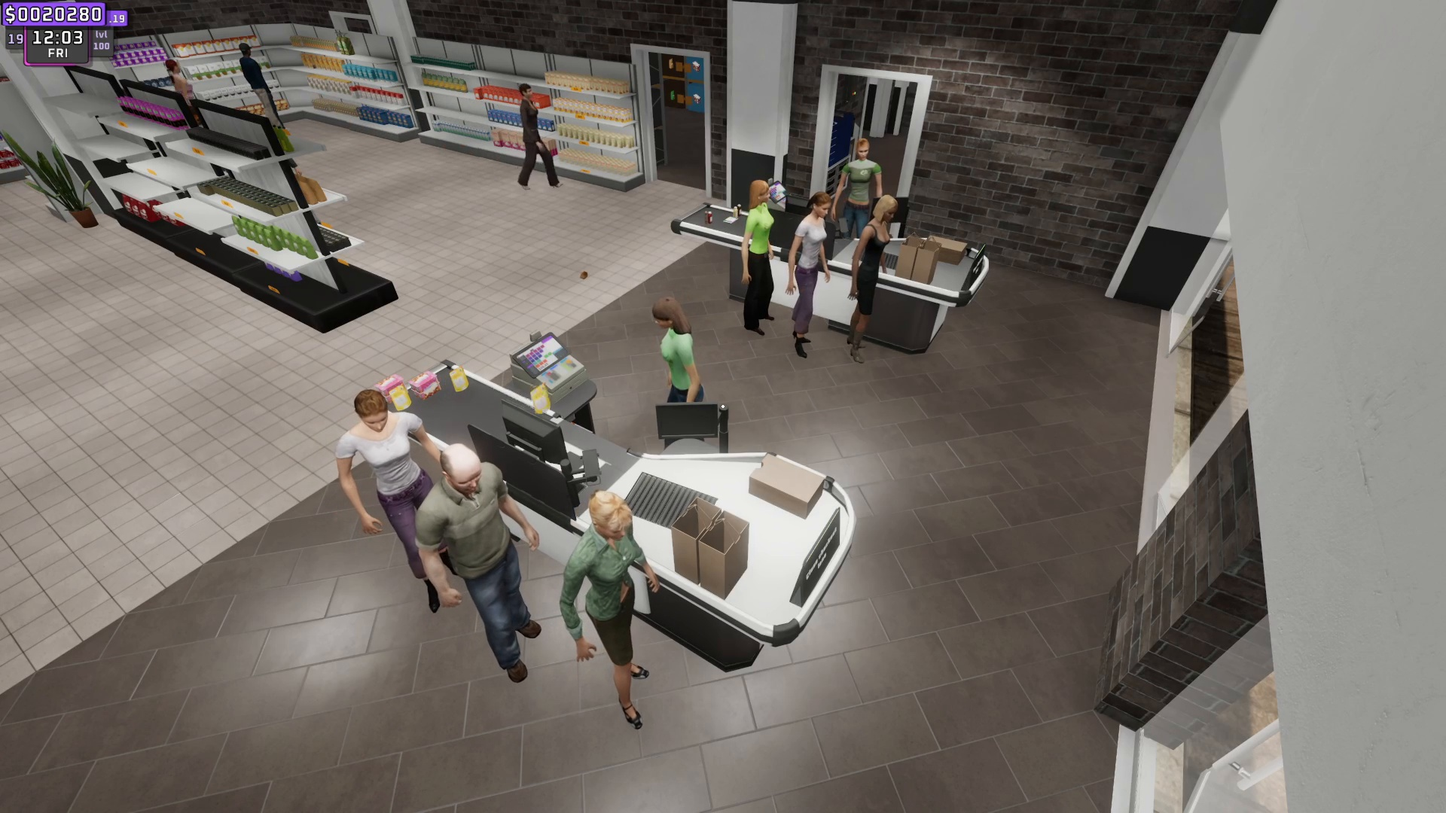Client: (412, 446, 553, 676), (561, 483, 666, 718), (328, 388, 438, 596), (851, 197, 901, 354), (734, 178, 778, 330), (794, 194, 831, 344)
Employee: (657, 302, 703, 401), (844, 144, 876, 226)
